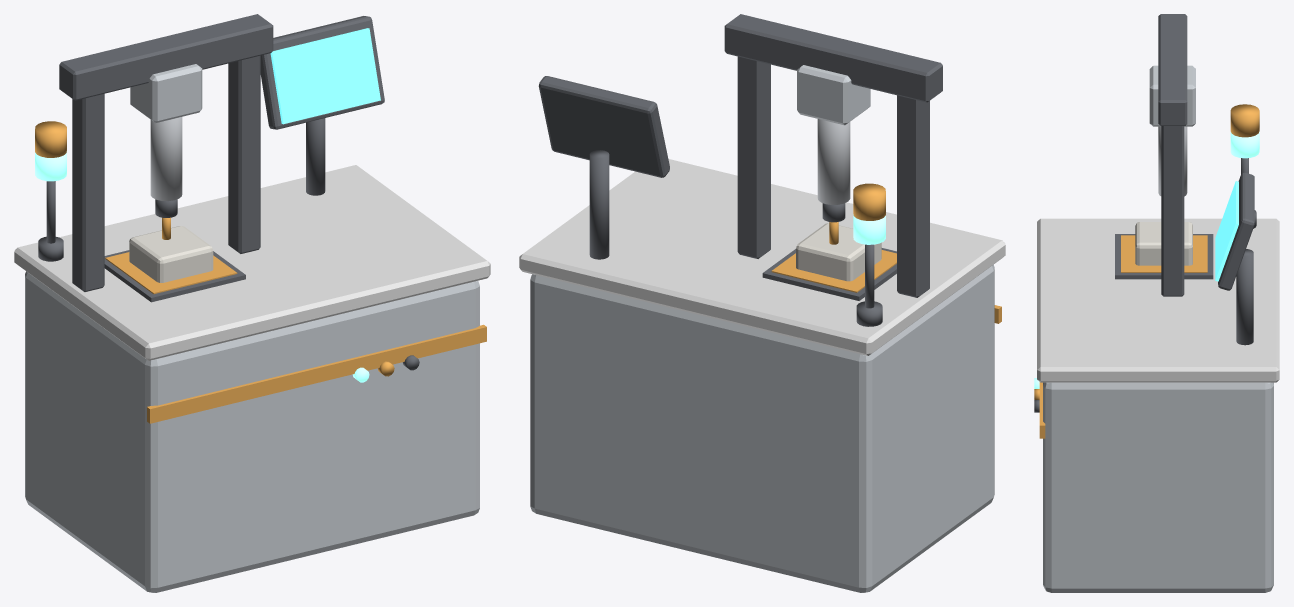
Rendered from WorkstationProcessor.fbx.
3 renders of one model, left to right at view 1: azimuth 30°, elevation 25°; view 2: azimuth 150°, elevation 25°; view 3: azimuth 270°, elevation 25°, orthographic. The views are drawn at different scales.
Visible parts, largest first — view 1: WS_Cabinet, WS_Worktop, WS_Beam, WS_ScreenFace, WS_Post_L, WS_Post_R, WS_Stripe, WS_WorkItem, WS_Bezel, WS_Carriage, WS_Spindle, WS_PadEdge (+5 smaller); view 2: WS_Cabinet, WS_Worktop, WS_Beam, WS_Bezel, WS_Post_R, WS_Post_L, WS_Carriage, WS_WorkItem, WS_Spindle, WS_ScreenPost, WS_PadEdge, WS_WorkPad (+3 smaller); view 3: WS_Cabinet, WS_Worktop, WS_Post_R, WS_Beam, WS_Bezel, WS_ScreenPost, WS_WorkItem, WS_PadEdge, WS_ScreenFace, WS_Carriage, WS_WorkPad, WS_Andon_Amber (+2 smaller).
Boxes of the visible parts, x1,y1,x2,y2 form: WS_Cabinet: (25, 271, 479, 592); WS_Worktop: (14, 165, 490, 360); WS_Beam: (59, 14, 273, 100); WS_ScreenFace: (270, 28, 380, 124); WS_Post_L: (72, 93, 104, 291); WS_Post_R: (228, 55, 260, 253); WS_Stripe: (147, 324, 486, 423); WS_WorkItem: (129, 226, 213, 282); WS_Bezel: (260, 16, 384, 129); WS_Carriage: (130, 64, 202, 122); WS_Spindle: (150, 117, 182, 201); WS_PadEdge: (105, 252, 237, 294); WS_Cabinet: (530, 265, 994, 592); WS_Worktop: (519, 159, 1005, 355); WS_Beam: (724, 14, 942, 102); WS_Bezel: (538, 76, 669, 177); WS_Post_R: (737, 56, 770, 258); WS_Post_L: (897, 95, 929, 297); WS_Carriage: (797, 65, 870, 125); WS_WorkItem: (796, 223, 881, 281); WS_Spindle: (817, 119, 850, 204); WS_ScreenPost: (589, 150, 609, 259); WS_PadEdge: (771, 250, 896, 292); WS_WorkPad: (762, 248, 896, 300); WS_Cabinet: (1043, 382, 1273, 592); WS_Worktop: (1037, 218, 1279, 382); WS_Post_R: (1161, 126, 1184, 296); WS_Beam: (1158, 14, 1187, 125); WS_Bezel: (1218, 172, 1254, 290); WS_ScreenPost: (1236, 249, 1253, 345); WS_WorkItem: (1135, 222, 1192, 265); WS_PadEdge: (1121, 235, 1207, 272); WS_ScreenFace: (1215, 181, 1238, 281); WS_Carriage: (1149, 65, 1195, 126); WS_WorkPad: (1115, 234, 1213, 279); WS_Andon_Amber: (1230, 104, 1259, 137).
Bounding box in the file's own units: 1.26 × 1.65 × 0.85.
